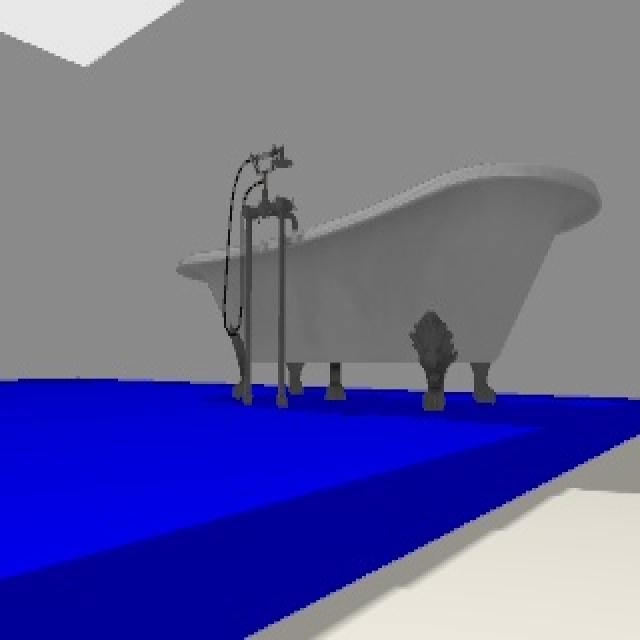bathtub: (178, 142, 603, 412)
